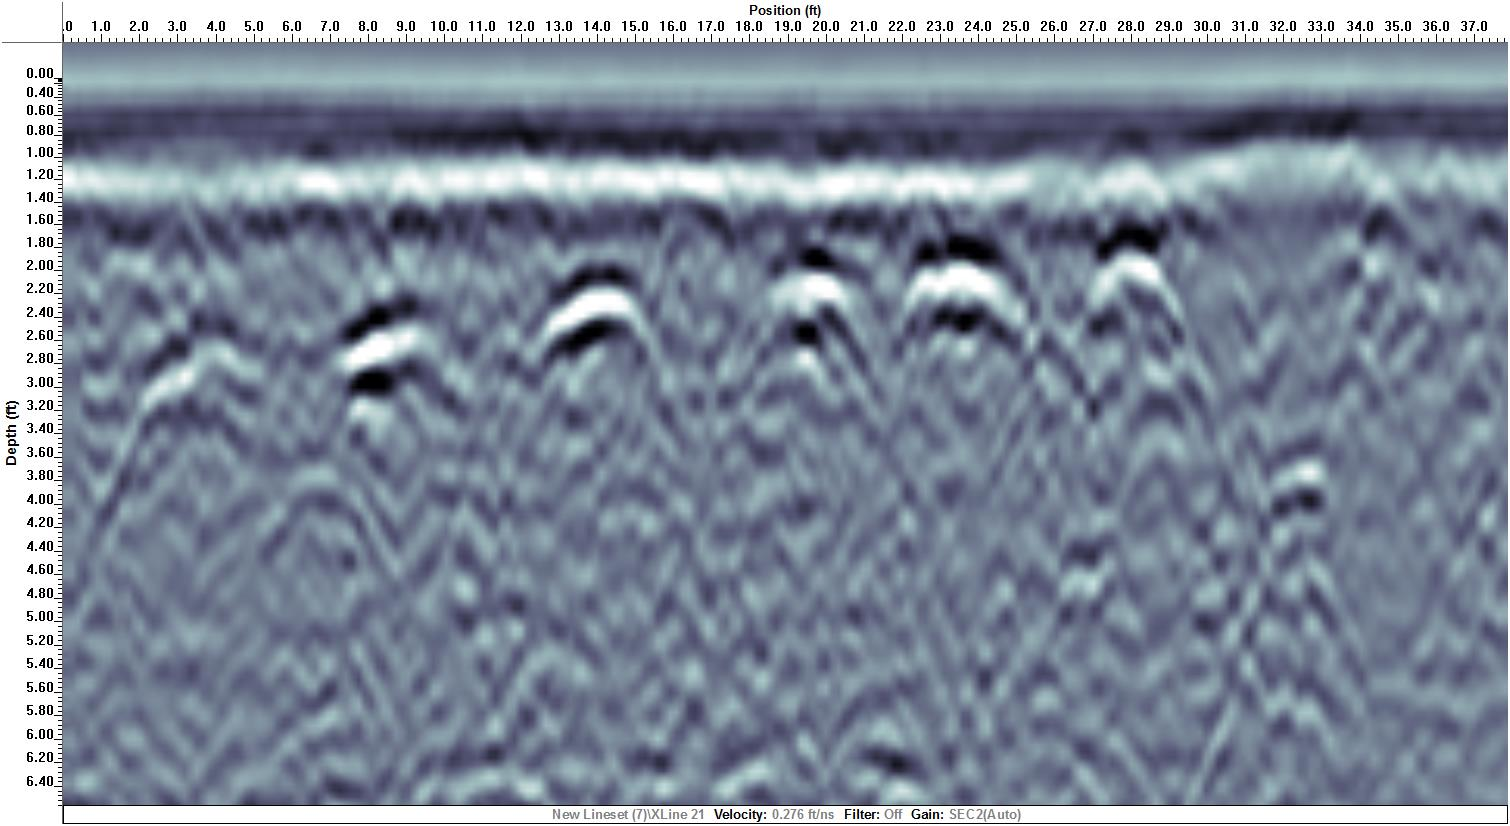hyperbola: (511, 257, 675, 432), (715, 246, 891, 392), (318, 289, 477, 426), (904, 223, 1029, 382)
